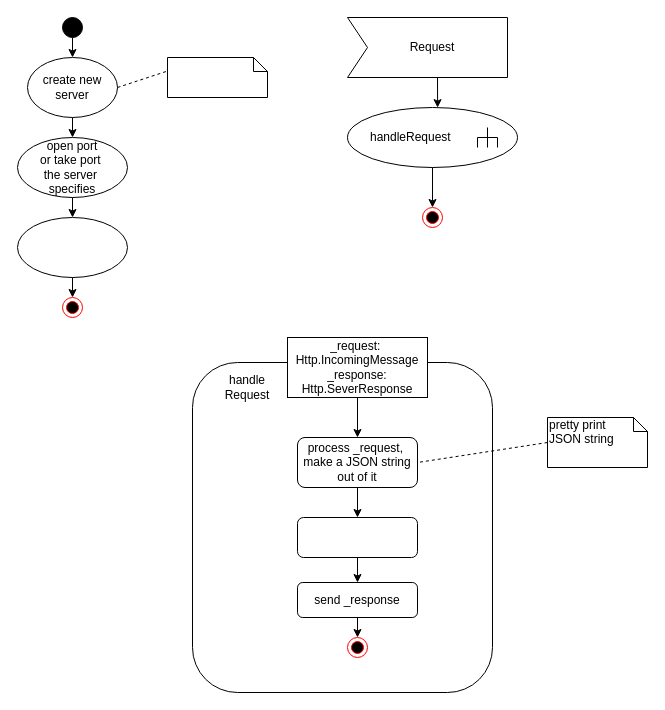
Image size: 665x710. Some labels were removed from this diagram. The shapes that lost their labels are listed below. From the top down, each one's centre as x and y in pixels, then its label:
At (x=217, y=77): "Http.createServer".
At (x=72, y=247): "add request listener to button".
At (x=357, y=537): "fill response with JSON string".
